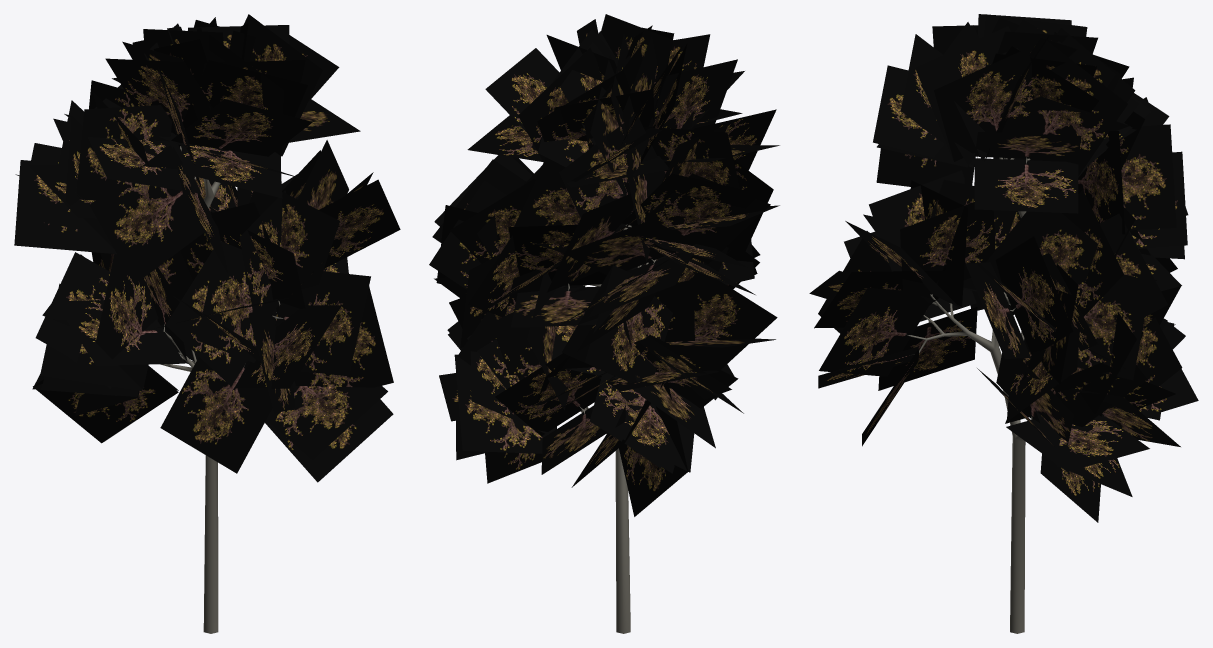
Rendered from sample_tree_5.gltf.
3 renders of one model, left to right at view 1: azimuth 30°, elevation 25°; view 2: azimuth 150°, elevation 25°; view 3: azimuth 270°, elevation 25°, orthographic.
Parts seen in each view (by area): view 1: Object_1, Object_0; view 2: Object_1, Object_0; view 3: Object_1, Object_0.
Boxes of the visible parts, box(x1,y1,x2,y2) form: Object_1: box(14, 14, 400, 482); Object_0: box(160, 146, 283, 633); Object_1: box(429, 14, 779, 516); Object_0: box(568, 224, 656, 633); Object_1: box(809, 14, 1198, 522); Object_0: box(906, 157, 1032, 633).
Size of the model in its own units: 5.79 by 9.54 by 5.58.
2 materials, 1 textured.
